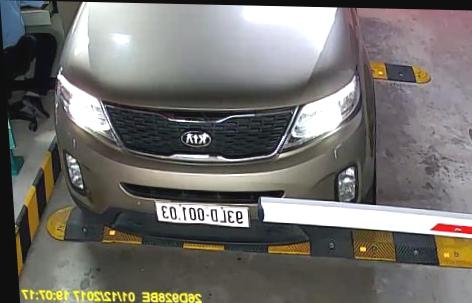License_Plate: (154, 199, 252, 226)
